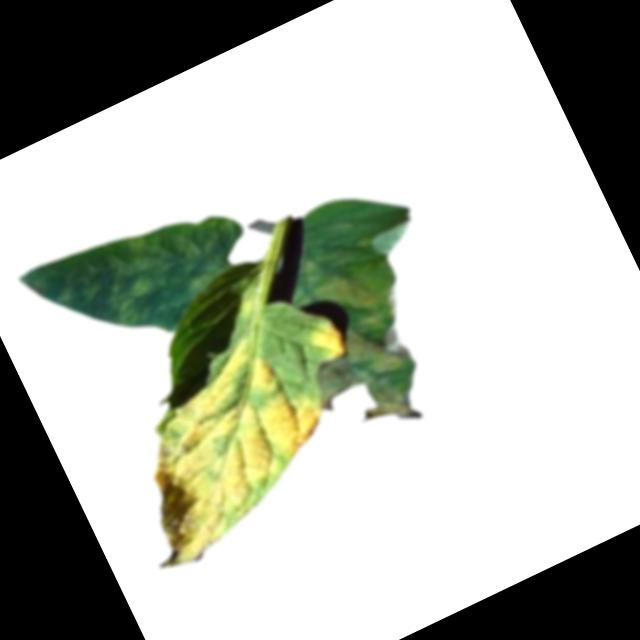Leaf_Mold: (102, 322, 355, 570), (259, 228, 452, 455), (16, 185, 246, 366)
